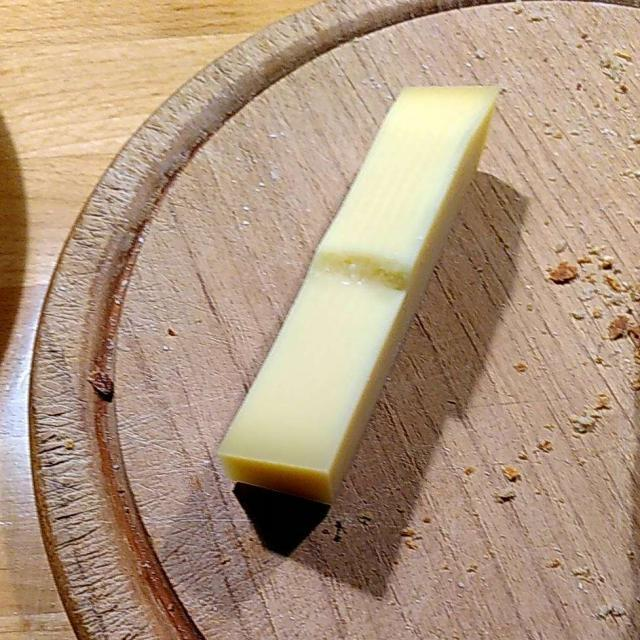gruyere: (222, 89, 492, 494)
